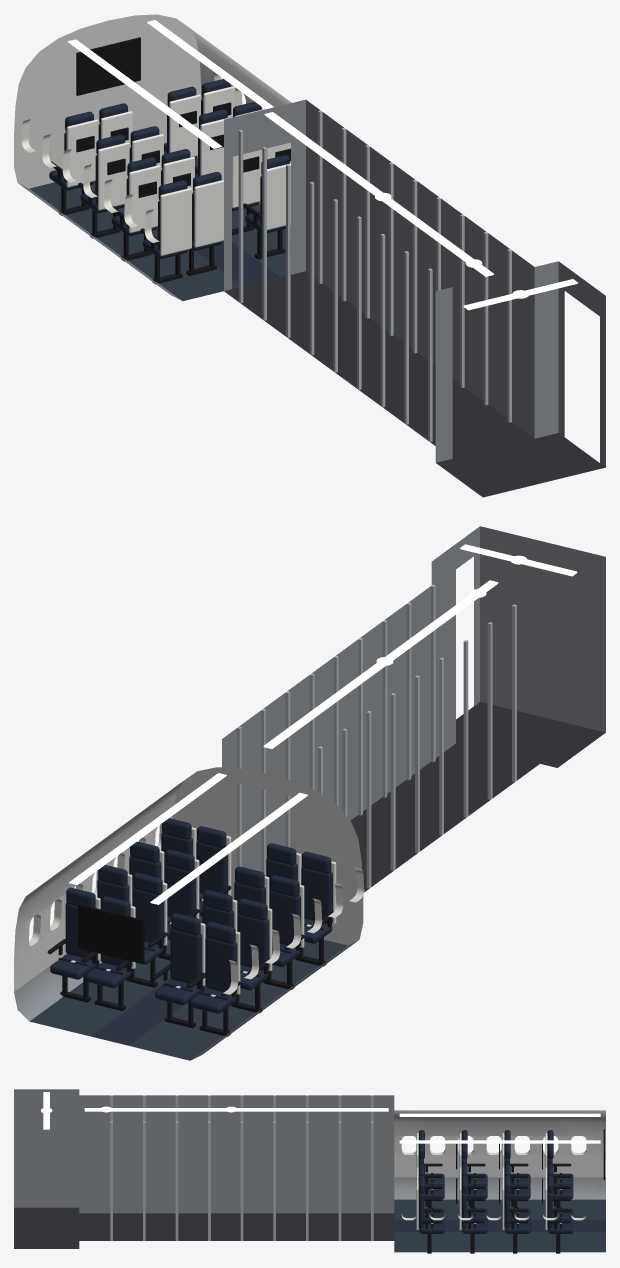
File: set5.glb
The picture shows the model from 3 angles, top to bottom: view 1: azimuth 30°, elevation 25°; view 2: azimuth 150°, elevation 25°; view 3: azimuth 270°, elevation 25°; orthographic projection. The views are drawn at different scales.
Visible parts, largest first — view 1: Static; view 2: Static; view 3: Static.
Boxes of the visible parts, x1,y1,x2,y2 form: Static: (14,14,605,497); Static: (14,526,605,1060); Static: (14,1089,605,1253).
Size of the model in its own units: 2.94 by 2.4 by 10.9.
